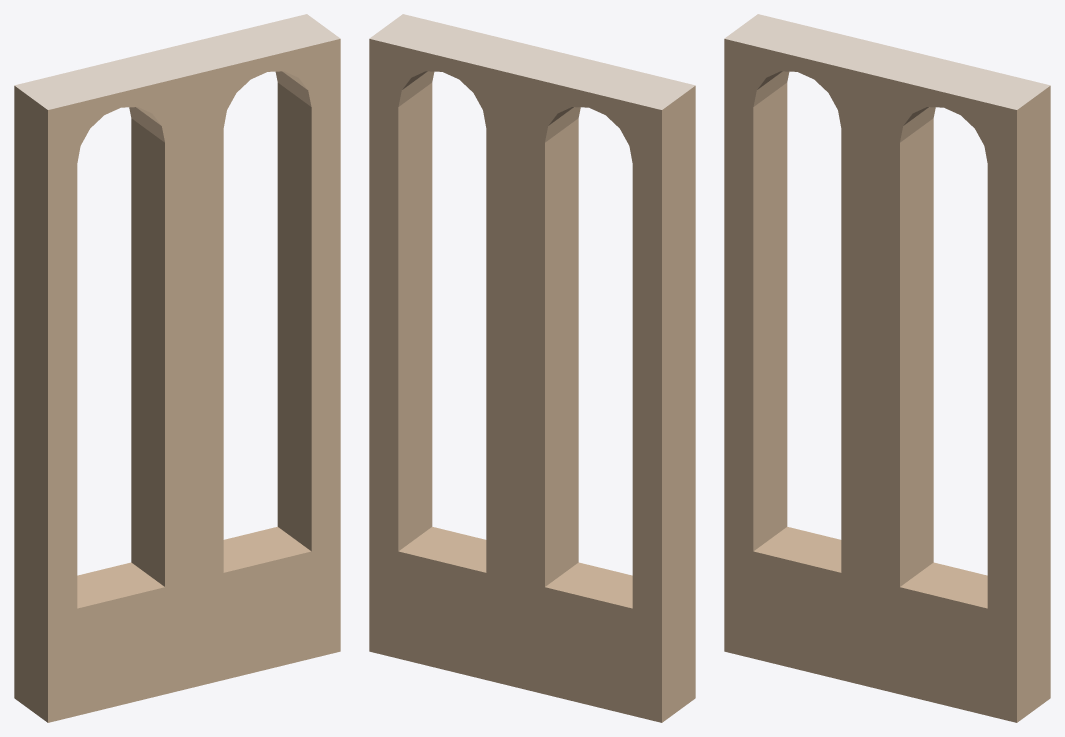
Rendered from Wall_Straight_Windows_Tall.obj.
The picture shows the model from 3 angles, left to right: view 1: azimuth 30°, elevation 25°; view 2: azimuth 150°, elevation 25°; view 3: azimuth 330°, elevation 25°; orthographic projection.
Parts seen in each view (by area): view 1: object1; view 2: object1; view 3: object1.
Boxes of the visible parts, <box> form: object1: <box>14,14,340,722</box>; object1: <box>369,14,695,722</box>; object1: <box>724,14,1050,722</box>.
Bounding box in the file's own units: 1 × 2 × 0.2.
